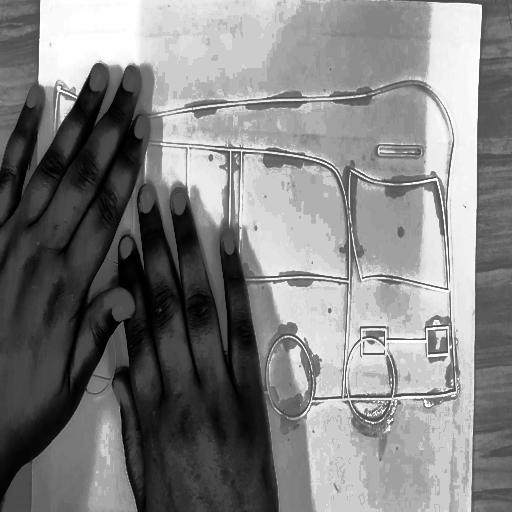bus: (38, 62, 469, 435)
top_right: (478, 0, 488, 12)
